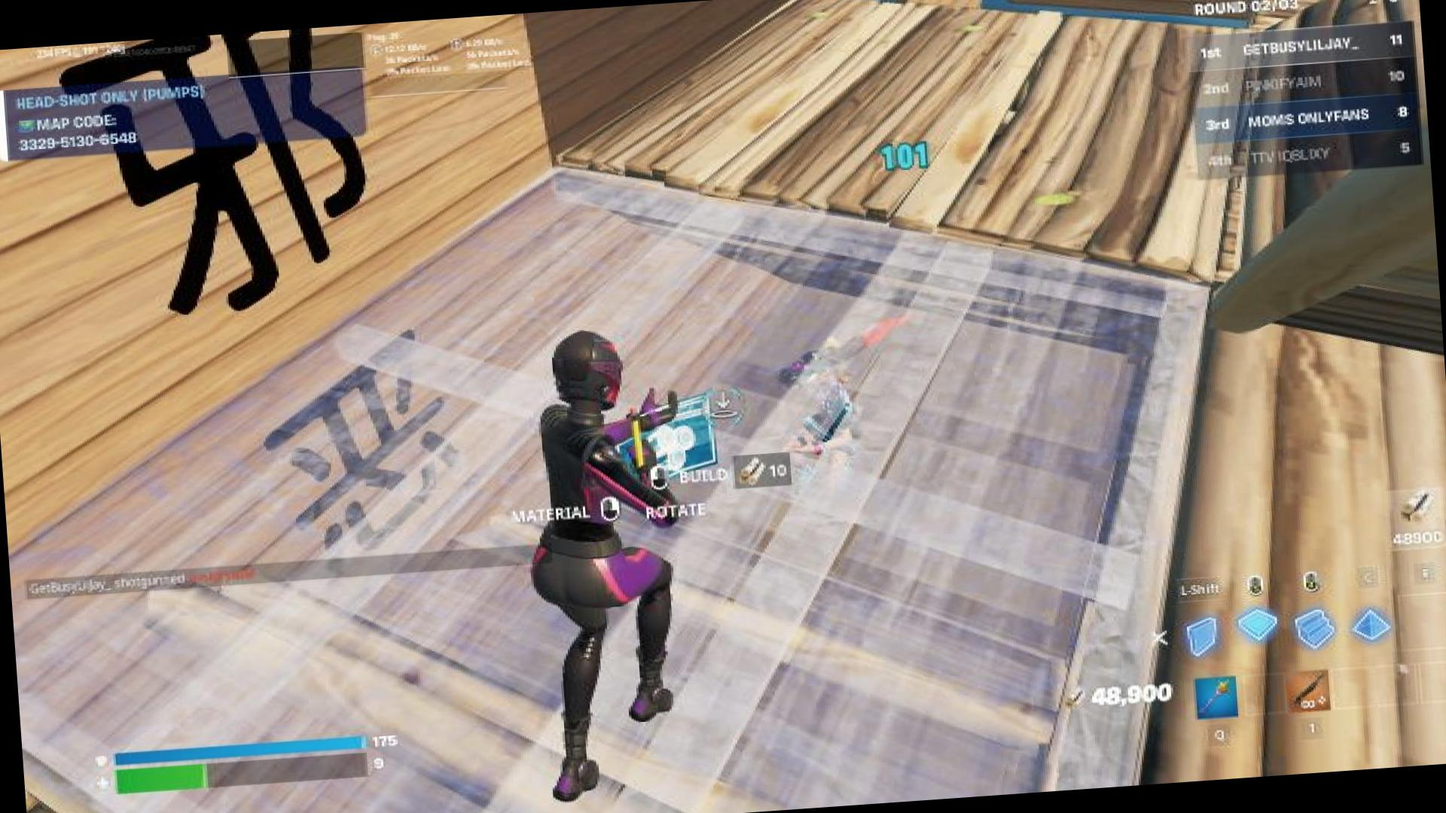player: (756, 347, 885, 498)
